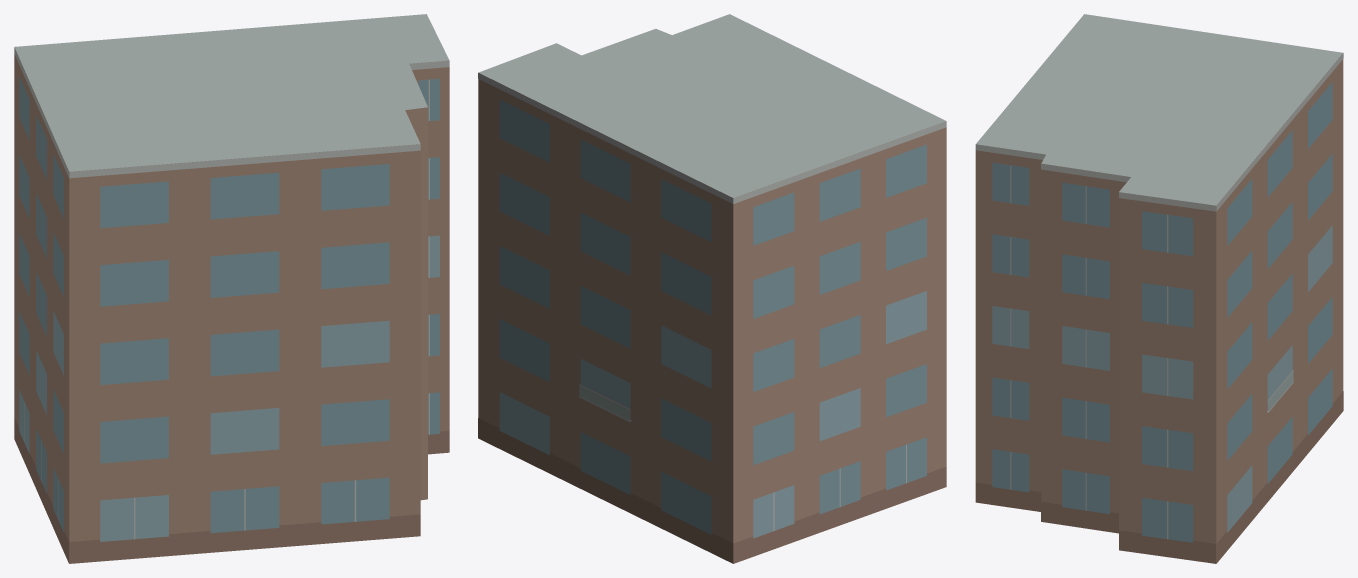
File: survey-upis-32944969.glb
The picture shows the model from 3 angles, left to right: view 1: azimuth 30°, elevation 25°; view 2: azimuth 150°, elevation 25°; view 3: azimuth 270°, elevation 25°; orthographic projection. The views are drawn at different scales.
Visible parts, largest first — view 1: survey-upis-32944969.tmp; view 2: survey-upis-32944969.tmp; view 3: survey-upis-32944969.tmp.
Boxes of the visible parts, x1,y1,x2,y2 form: survey-upis-32944969.tmp: (14,14,449,563); survey-upis-32944969.tmp: (478,14,946,563); survey-upis-32944969.tmp: (975,14,1343,563).
Size of the model in its own units: 16.82 by 14.65 by 13.64.
